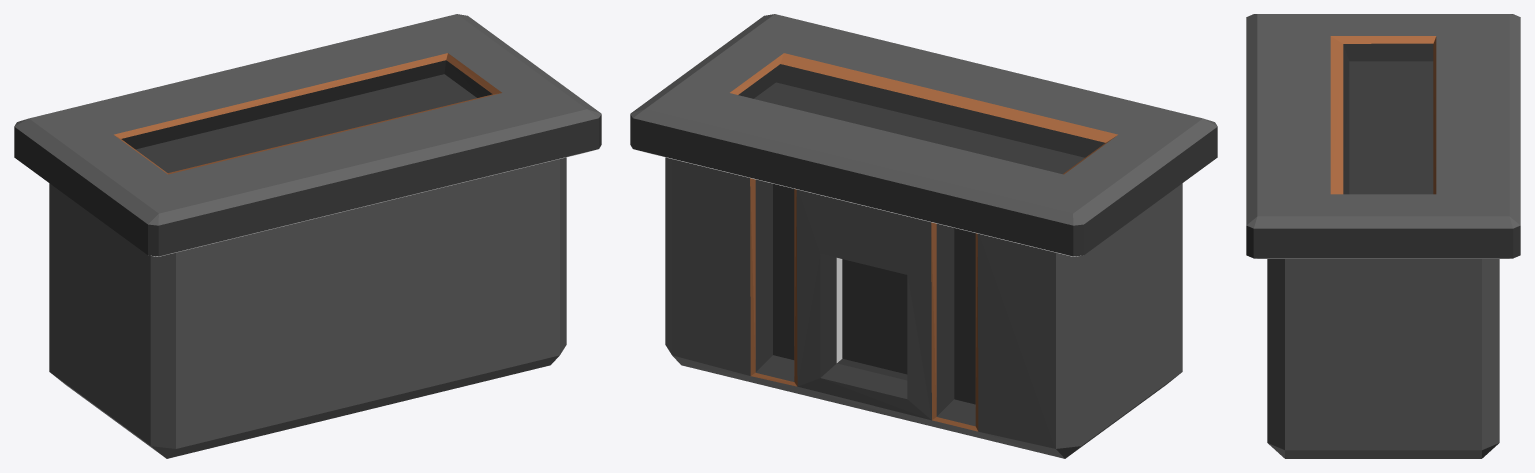
3 renders of one model, left to right at view 1: azimuth 30°, elevation 25°; view 2: azimuth 150°, elevation 25°; view 3: azimuth 270°, elevation 25°, orthographic. The views are drawn at different scales.
Parts seen in each view (by area): view 1: MS_Box; view 2: MS_Box; view 3: MS_Box.
Boxes of the visible parts, bbox=[...] form: MS_Box: bbox=[14, 14, 601, 458]; MS_Box: bbox=[630, 14, 1217, 458]; MS_Box: bbox=[1246, 14, 1520, 458].
Size of the model in its own units: 2.18 by 1.2 by 1.18.
